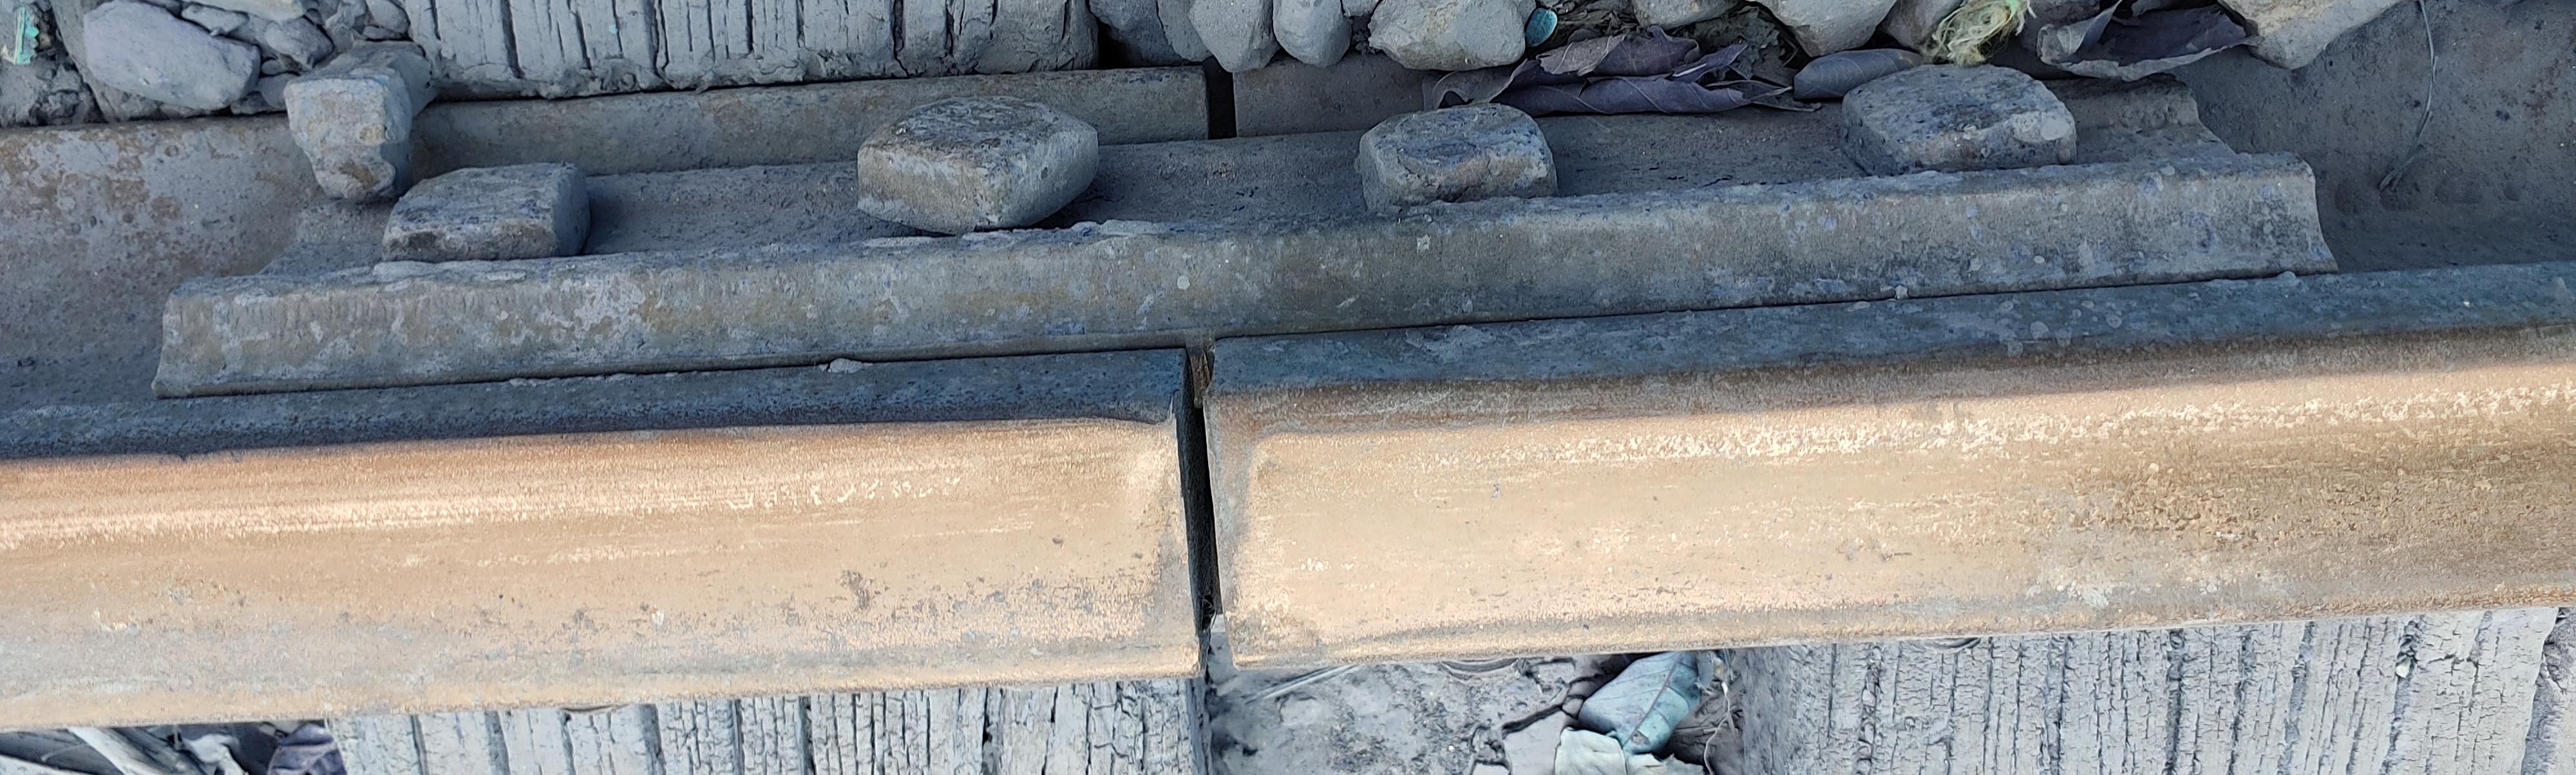error2: (1134, 327, 1331, 772)
